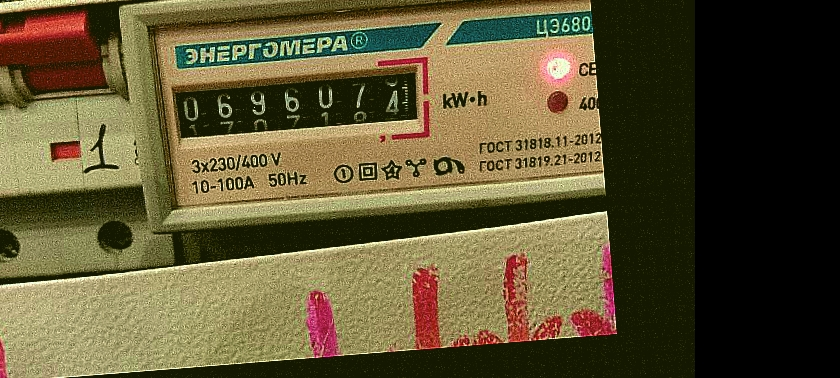0: (179, 93, 202, 123), (315, 80, 335, 110), (215, 91, 234, 118)
4: (382, 88, 401, 117)
6: (280, 83, 300, 114)
7: (348, 78, 368, 108)
9: (247, 87, 268, 116)
screen: (156, 52, 436, 157)
